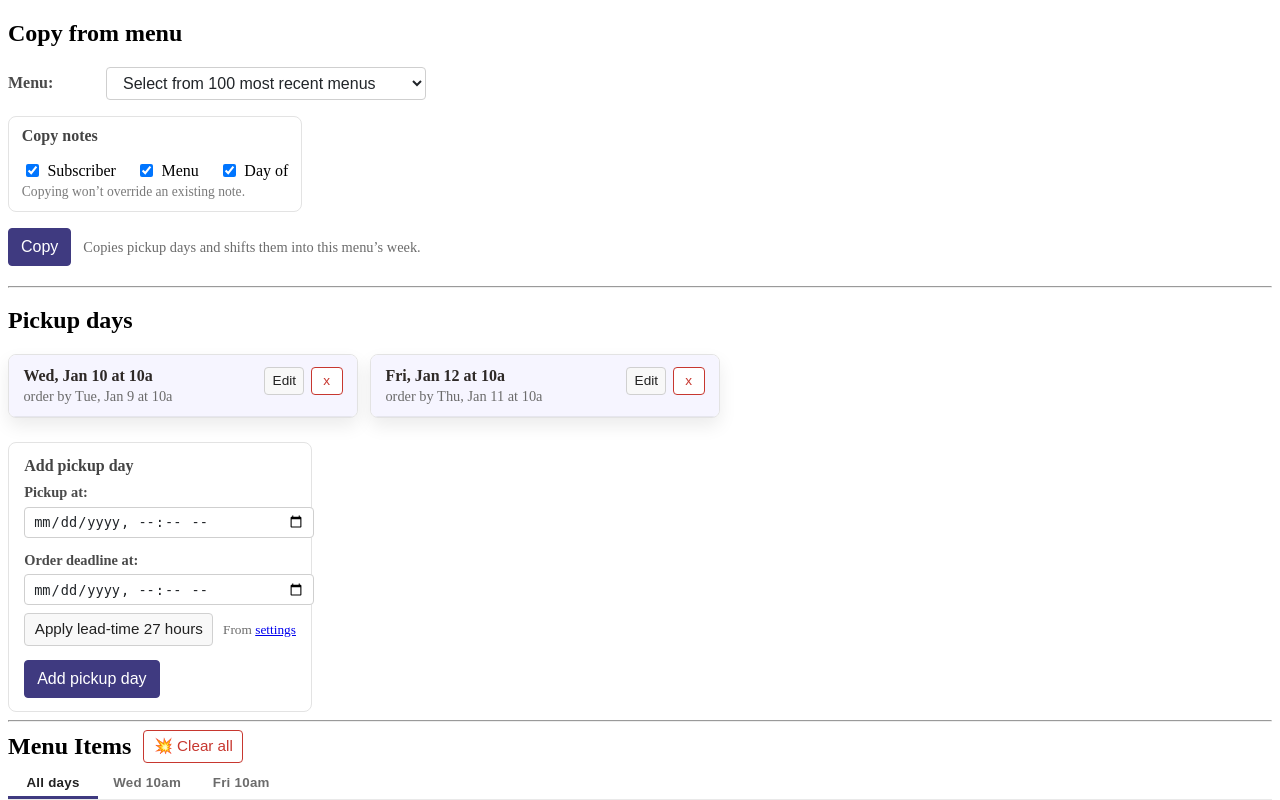
edits an existing pickup day
The image size is (1280, 800).
Expected: the heading "Pickup days" is shown, [8,308,133,334]
Step 1. Click the button "Edit" next to "Tue, Jan 9 at 10a" → (284, 381), box [264,367,304,395]
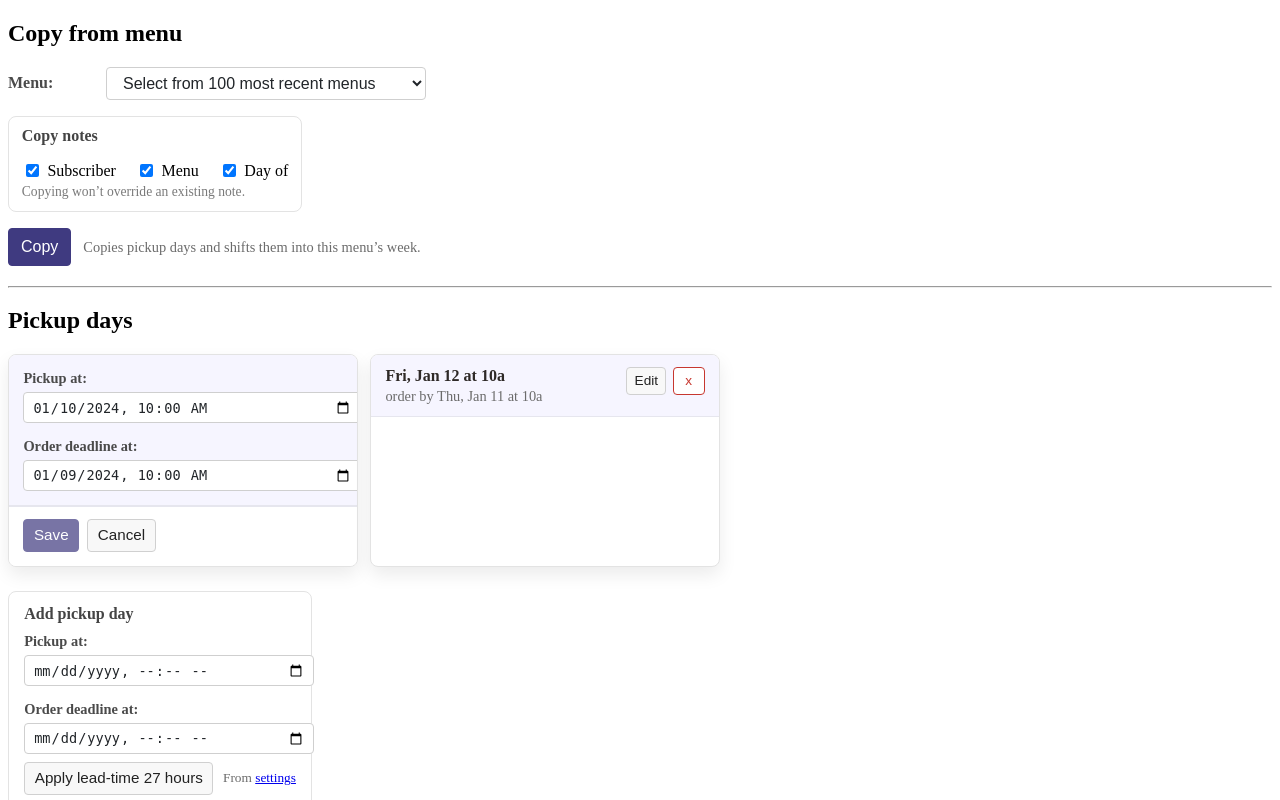
Step 2. Replace the text in the field labelled "Pickup at:" next to "order by" with "2024-01-15T09:00" → (192, 408), box [23,392,361,423]
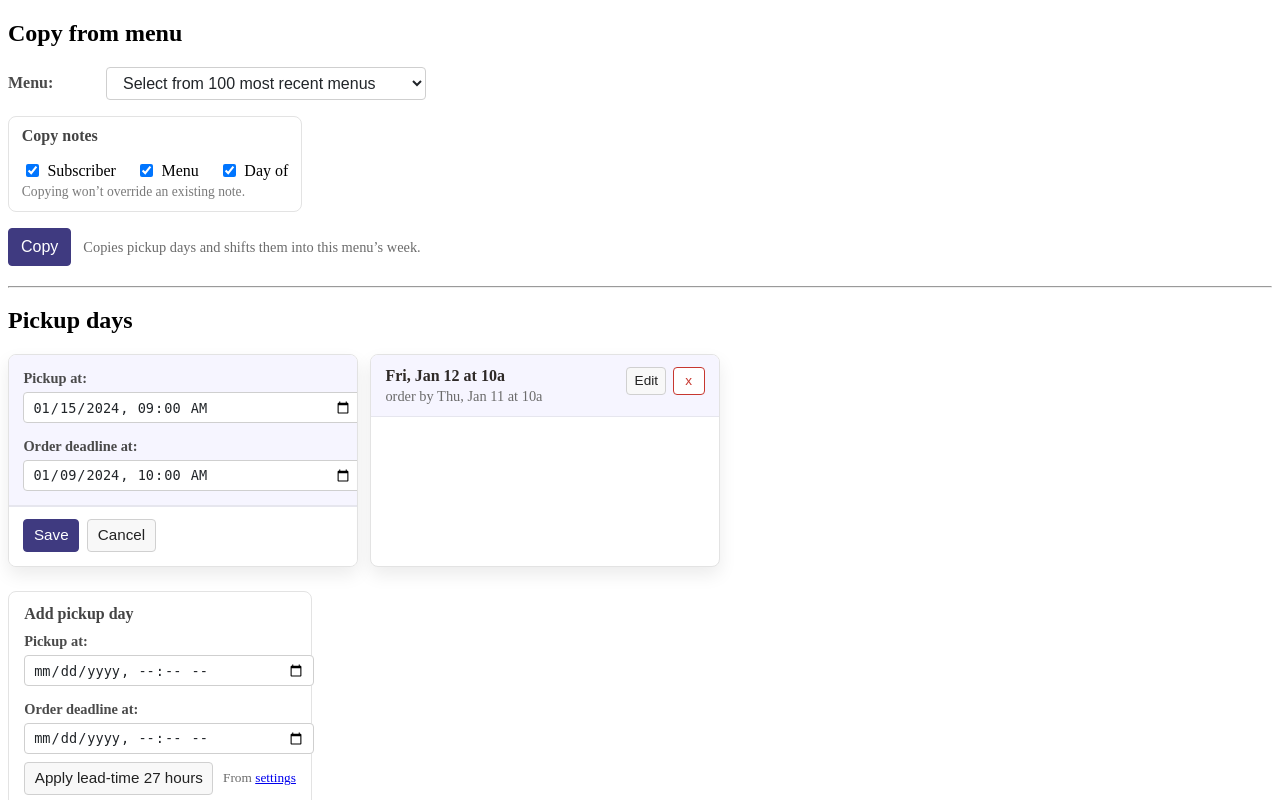
Step 3. Replace the text in the field labelled "Order deadline at:" below "order by" with "2024-01-14T09:00" → (192, 476), box [23,460,361,491]
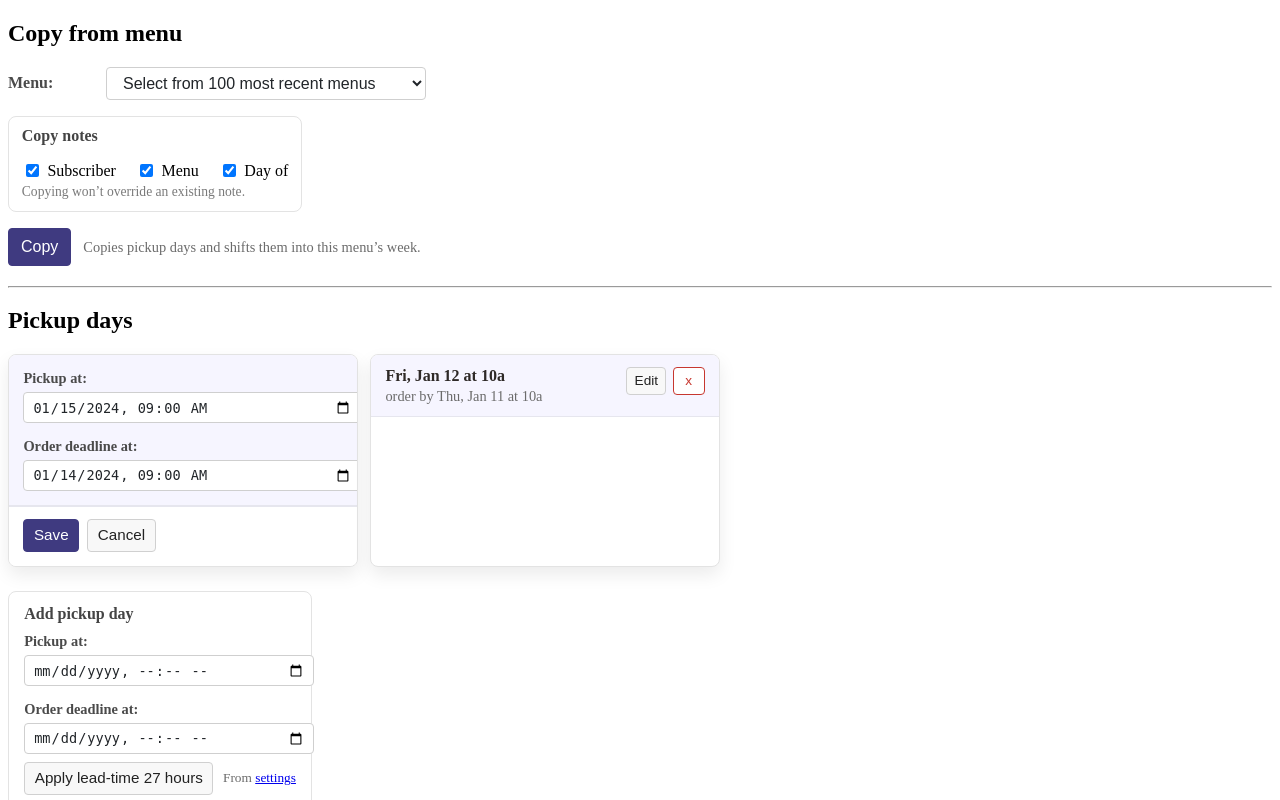
Step 4. Click the button "Save" → (51, 536), box [23,519,79,552]
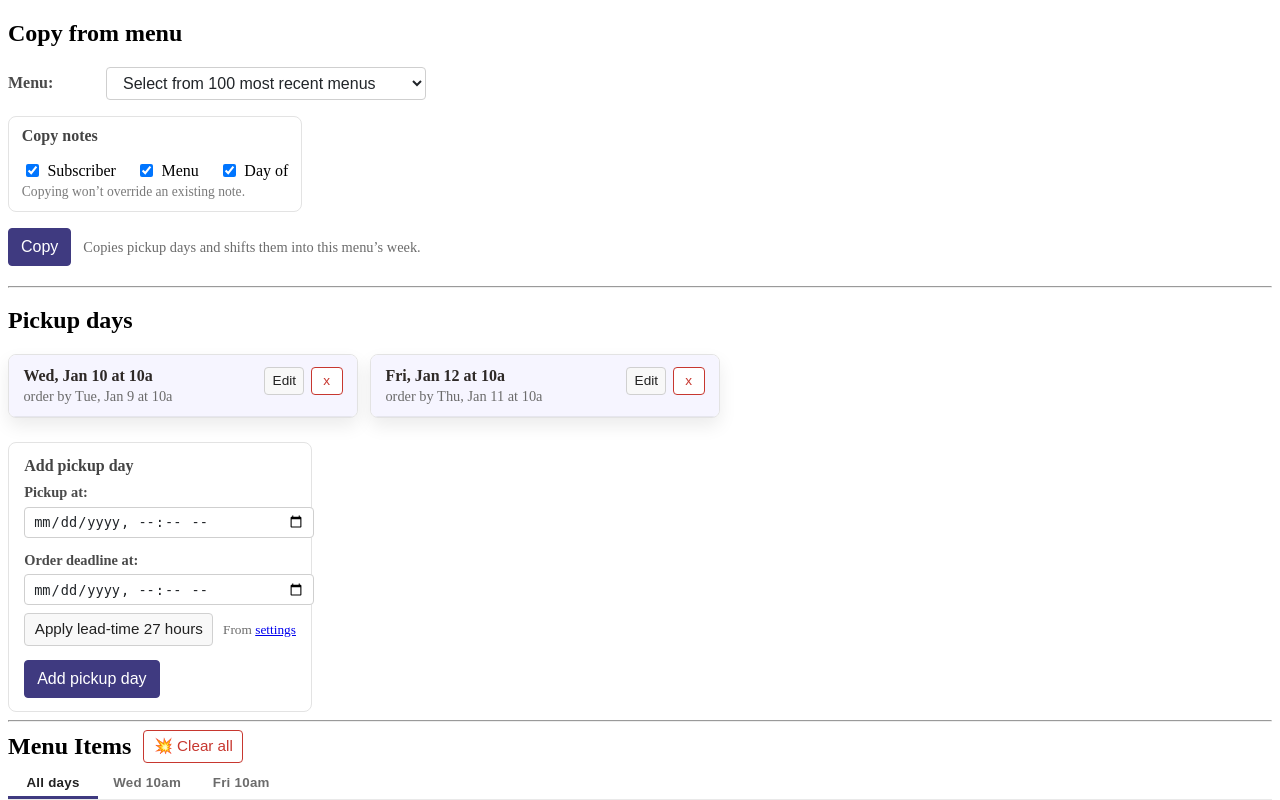
Expected: the button "Edit" next to "Tue, Jan 9 at 10a" is shown, [264,367,304,395]
